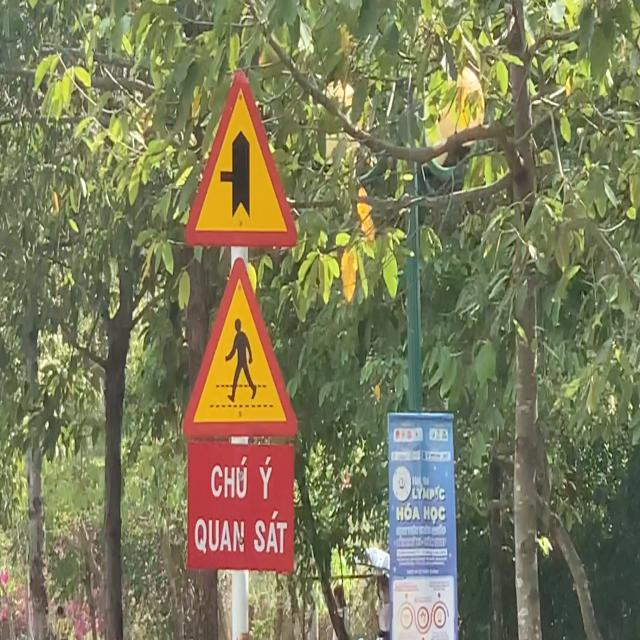Giao voi duong khong uu tien: (178, 58, 303, 253)
Nguoi di bo cat ngang: (176, 244, 302, 444)
